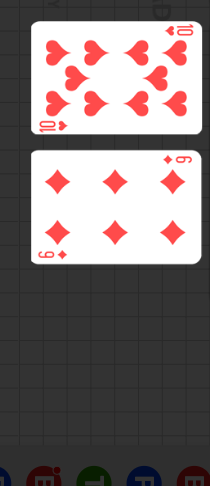10H: (164, 23, 196, 37)
6D: (37, 248, 69, 260)
